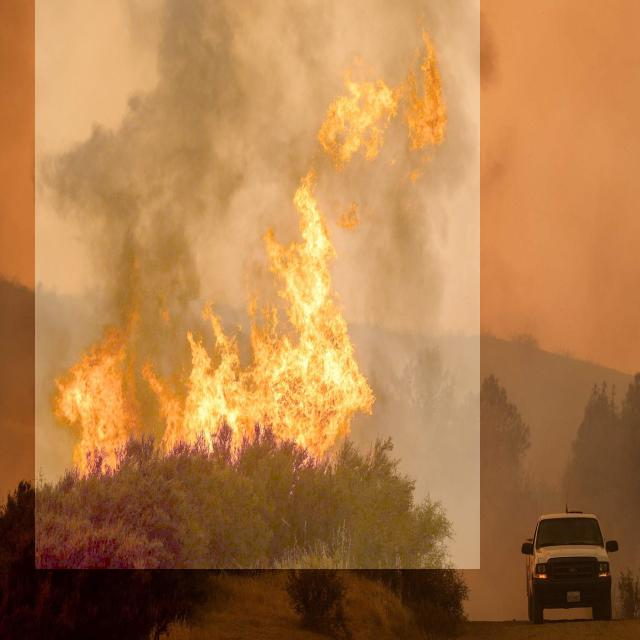Fire: (52, 43, 446, 483)
Smoke: (35, 0, 480, 569)
